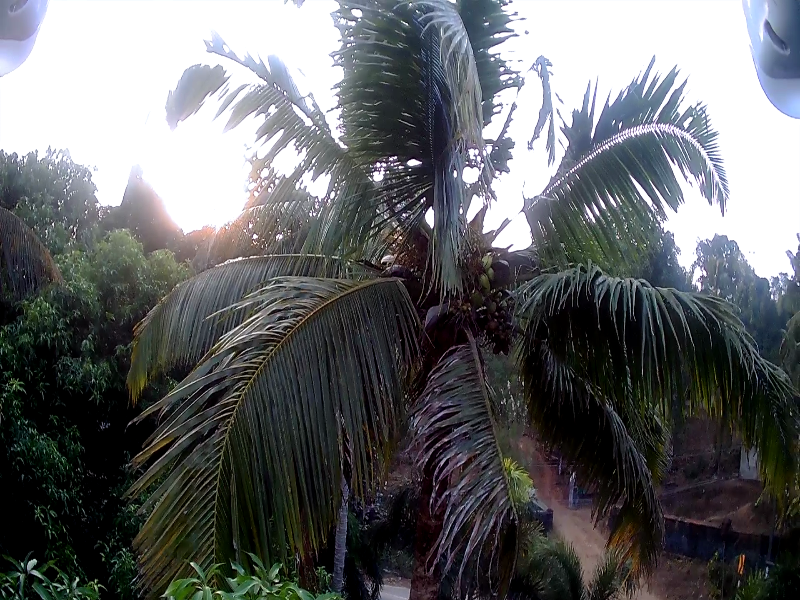coconut: (475, 271, 492, 286), (486, 263, 498, 278), (478, 254, 493, 265), (487, 298, 495, 311)
